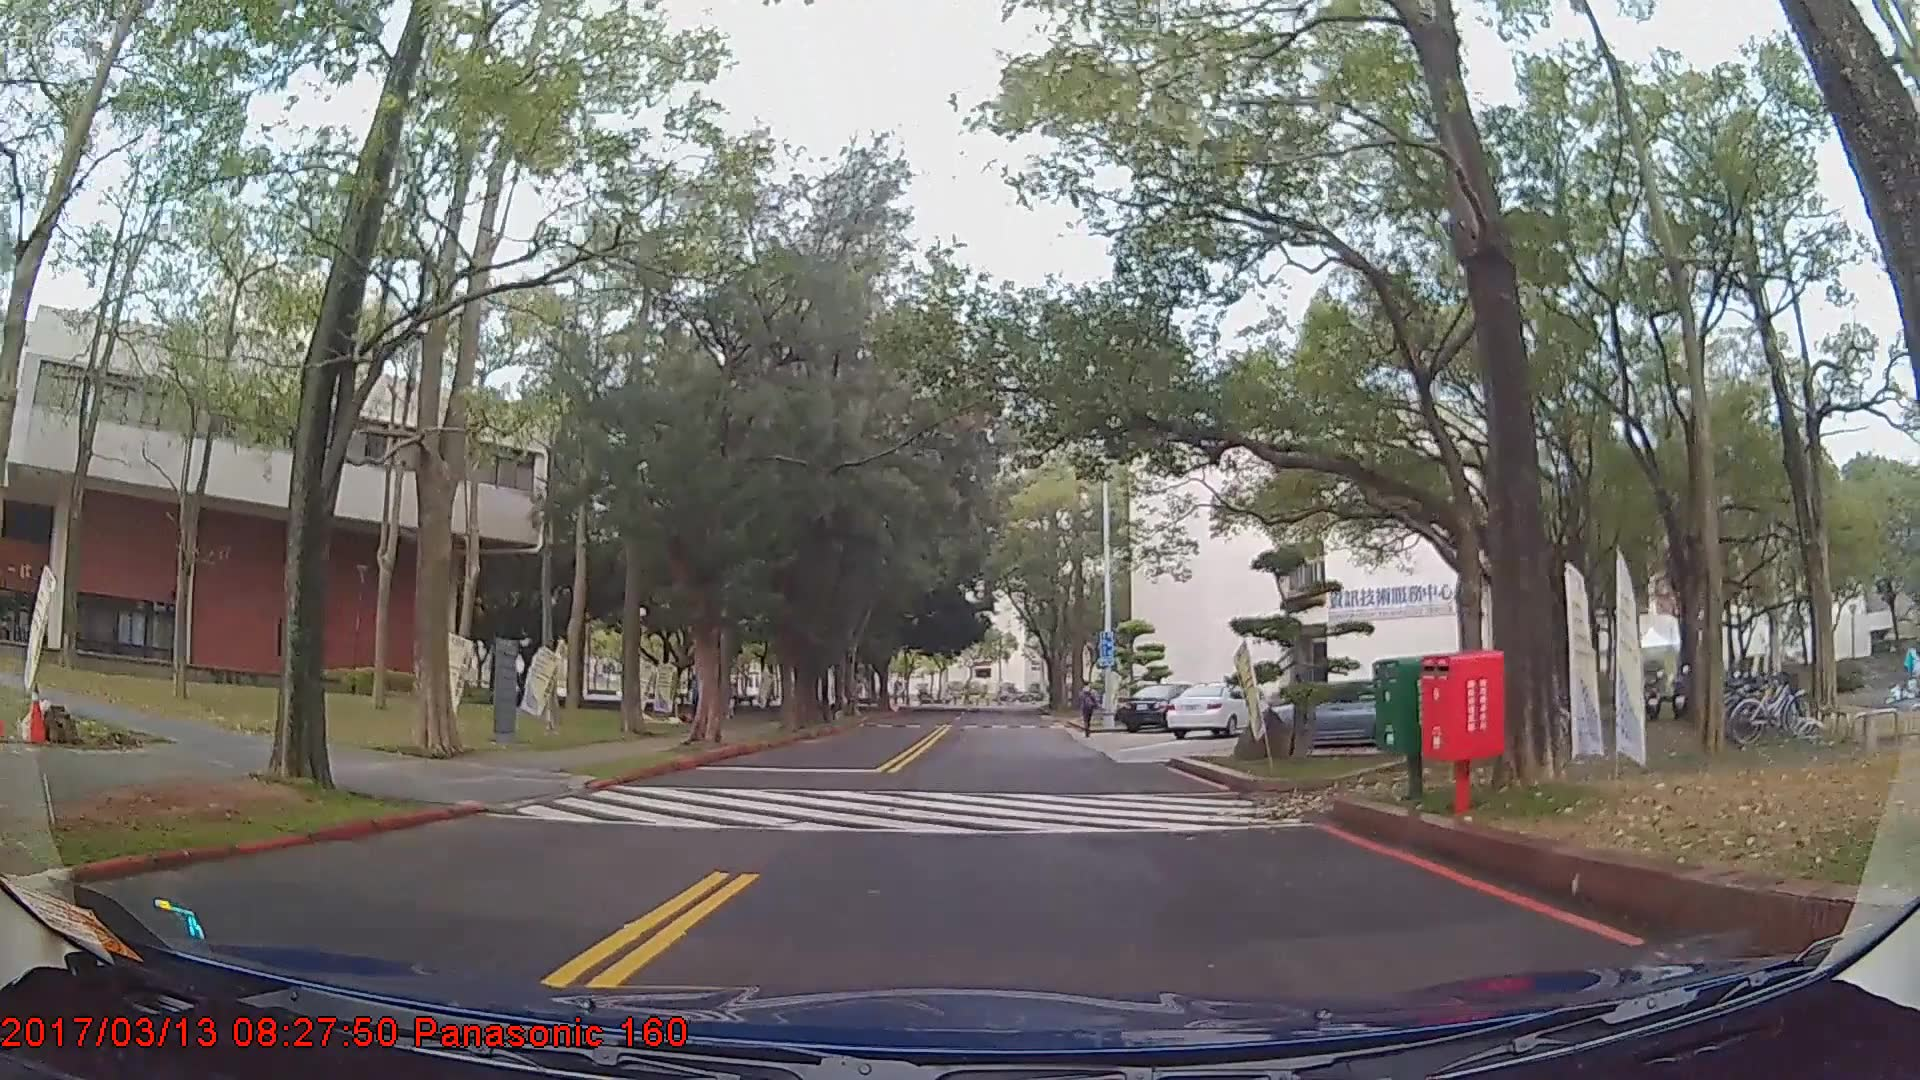pedestrian: (687, 670, 713, 743), (1074, 681, 1101, 742)
vehicle: (1167, 678, 1264, 737), (1114, 682, 1206, 733)
